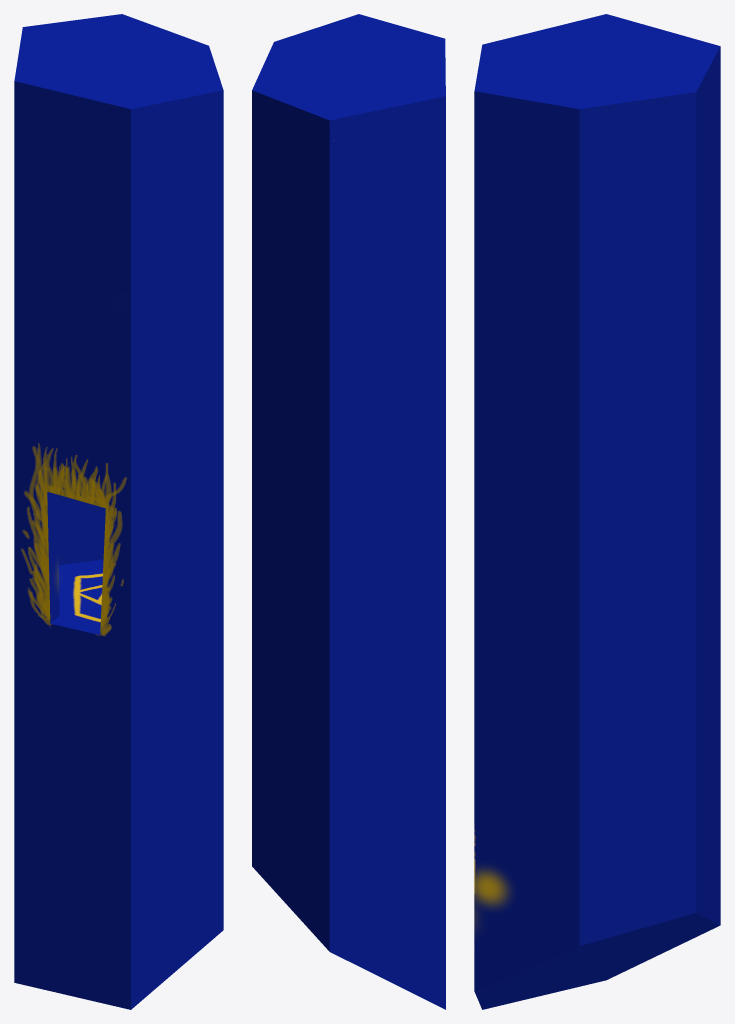
Rendered from building.glb.
3 renders of one model, left to right at view 1: azimuth 30°, elevation 25°; view 2: azimuth 150°, elevation 25°; view 3: azimuth 270°, elevation 25°, orthographic. The views are drawn at different scales.
Visible parts, largest first — view 1: building-col; view 2: building-col; view 3: building-col.
Part boxes in pixels (box(x1,y1,x2,y2)): building-col: box(14, 14, 223, 1009); building-col: box(252, 14, 445, 1009); building-col: box(474, 14, 720, 1009).
Size of the model in its own units: 6.38 by 30.19 by 6.97.
Materials: 2 (1 with a texture image).
